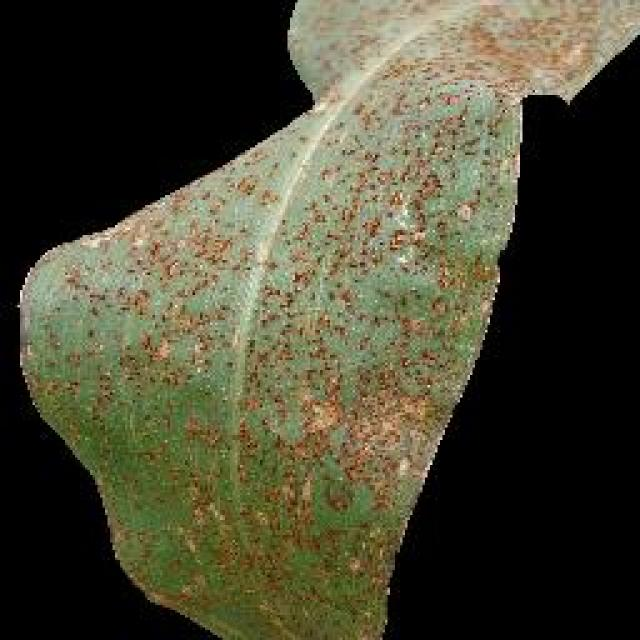Corn Common Rust: (155, 125, 527, 540)
